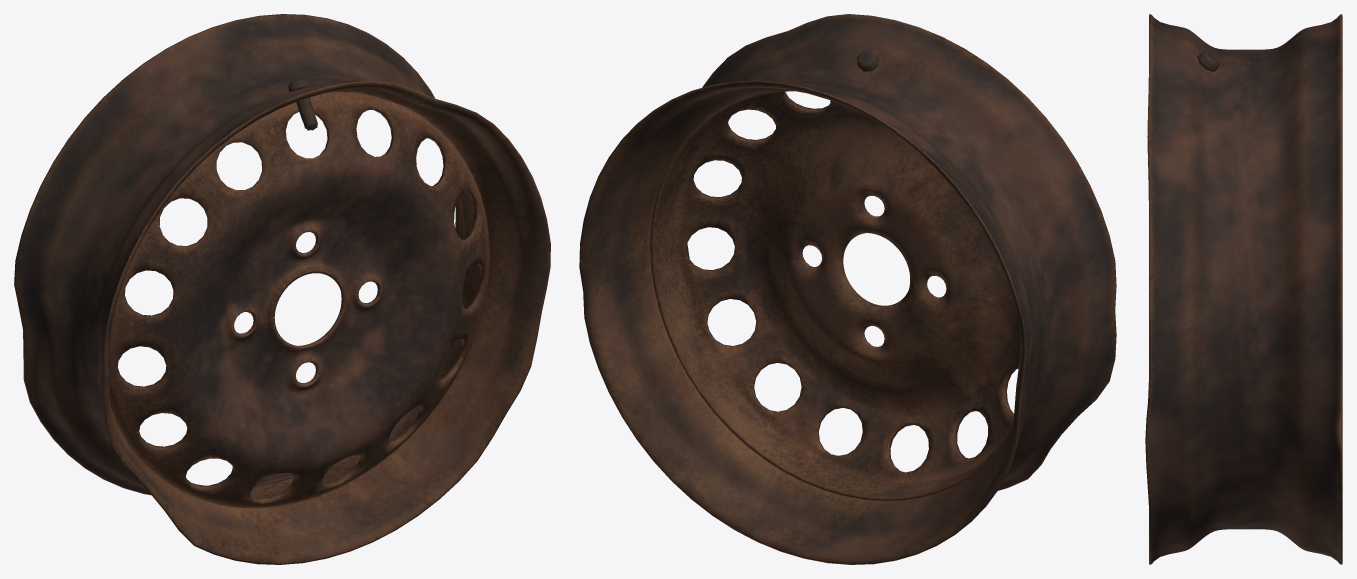
Rendered from rusted_wheel_rim_02.glb.
3 views of the same model, side by side, from view 1: azimuth 30°, elevation 25°; view 2: azimuth 150°, elevation 25°; view 3: azimuth 270°, elevation 25° (orthographic). The views are drawn at different scales.
Visible parts, largest first — view 1: rusted_wheel_rim_02; view 2: rusted_wheel_rim_02; view 3: rusted_wheel_rim_02.
Boxes of the visible parts, x1,y1,x2,y2 form: rusted_wheel_rim_02: [14, 14, 550, 564]; rusted_wheel_rim_02: [579, 14, 1116, 564]; rusted_wheel_rim_02: [1145, 14, 1342, 564].
Bounding box in the file's own units: 0.3355 × 0.3383 × 0.1211.
1 material, 1 textured.
